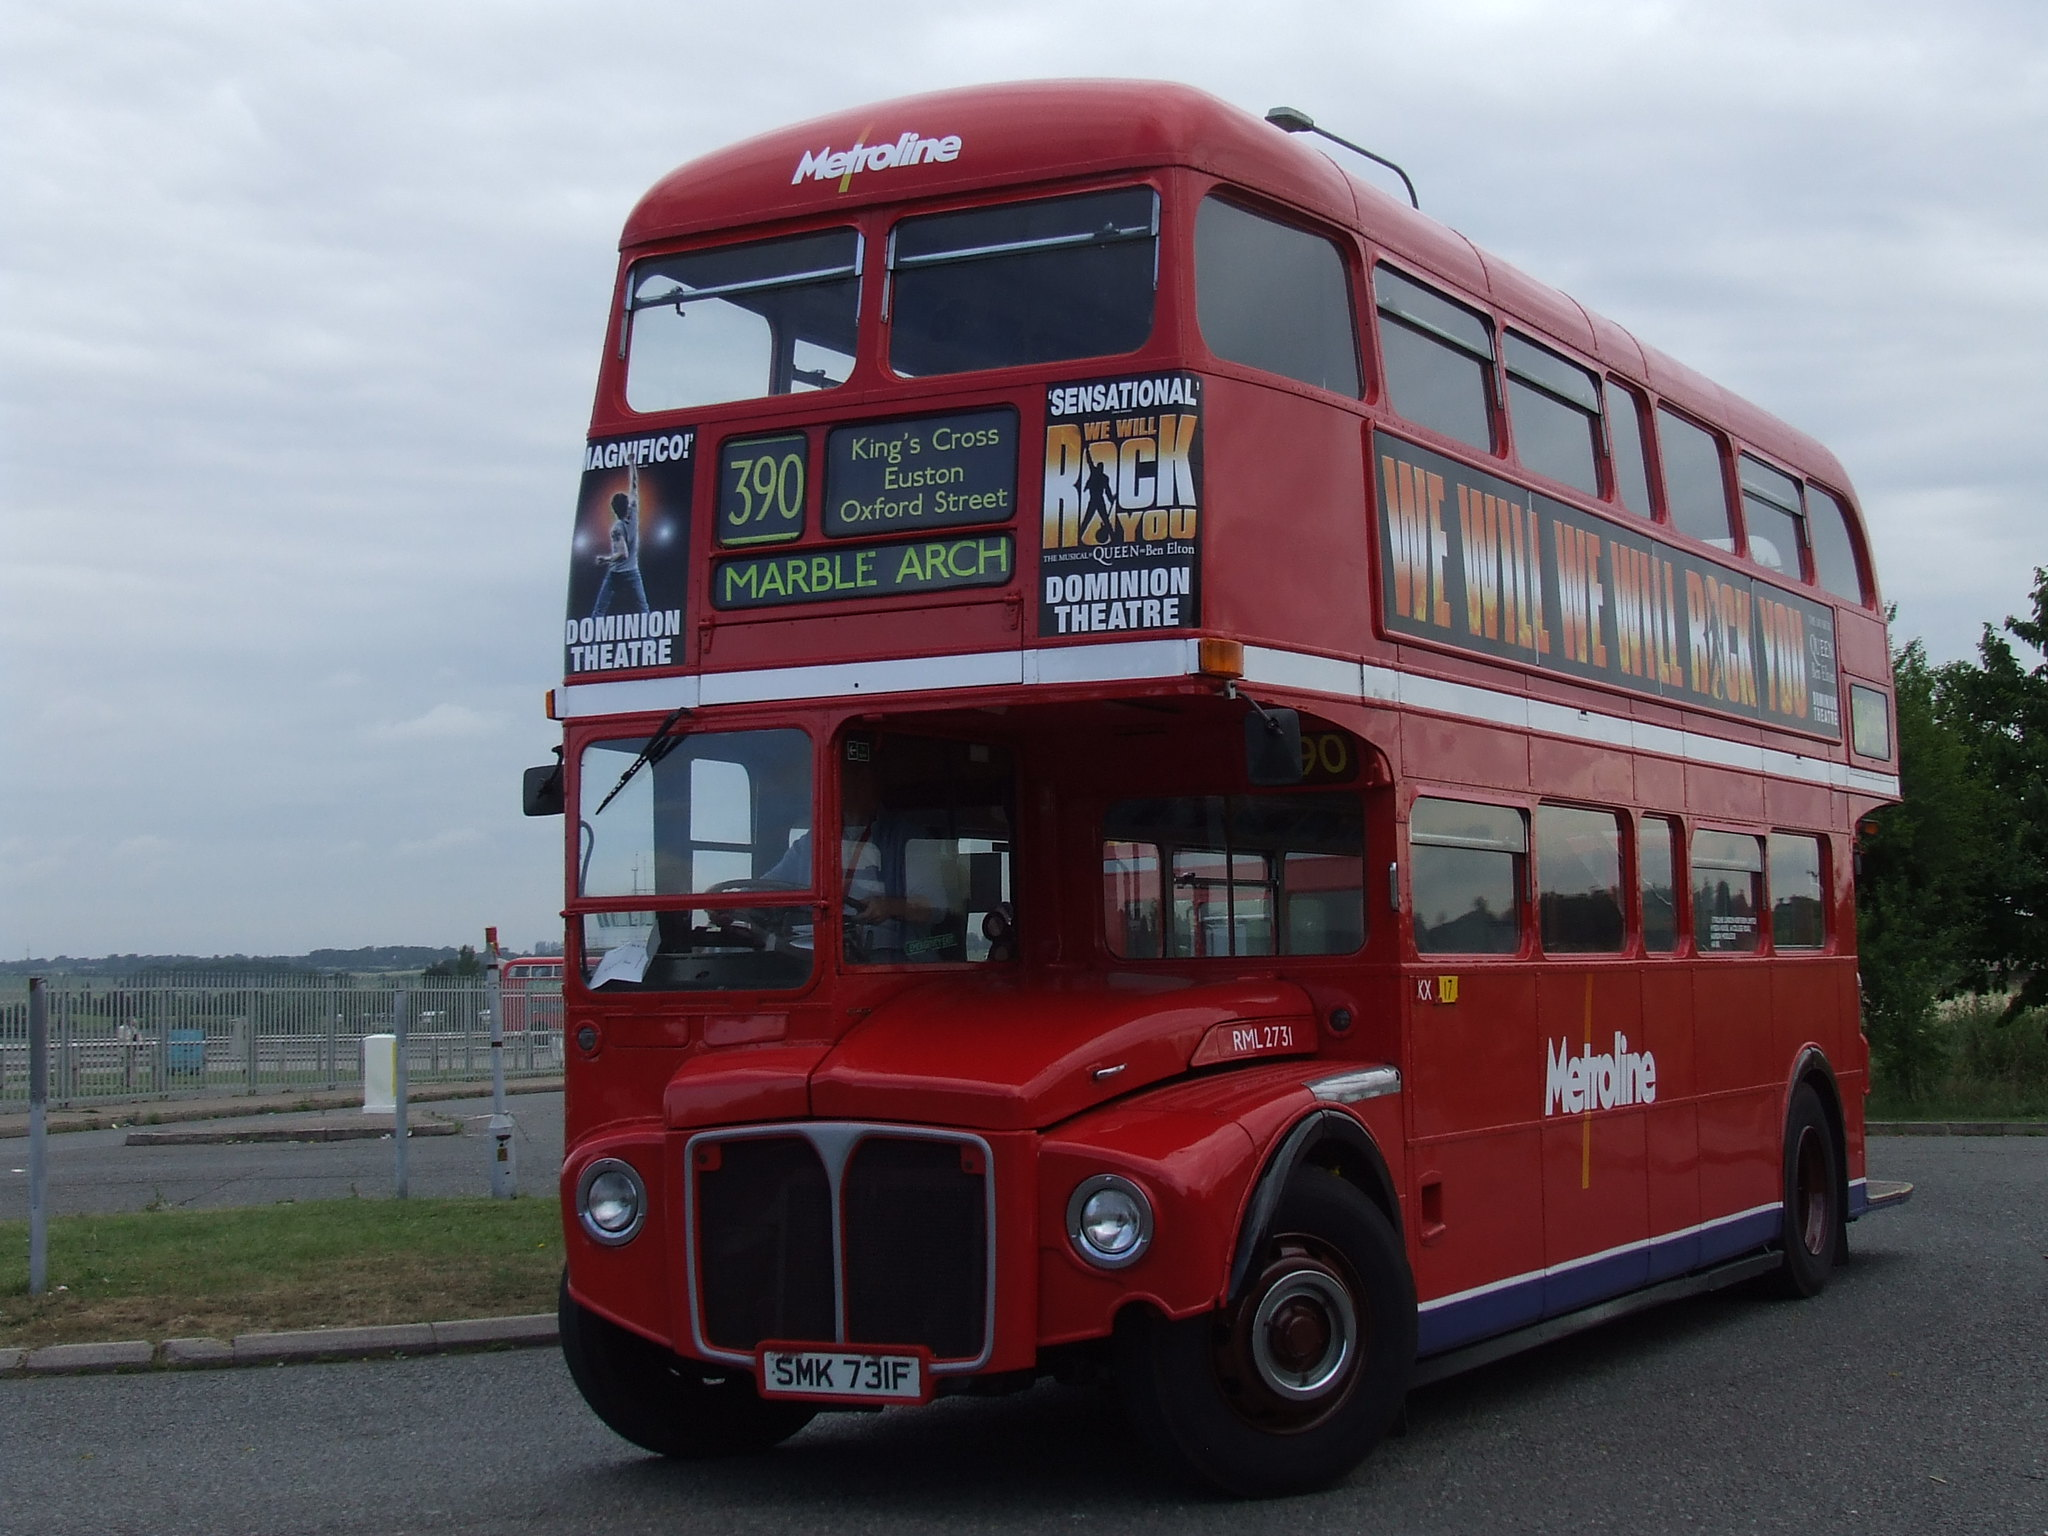bus: (505, 73, 1887, 1425)
